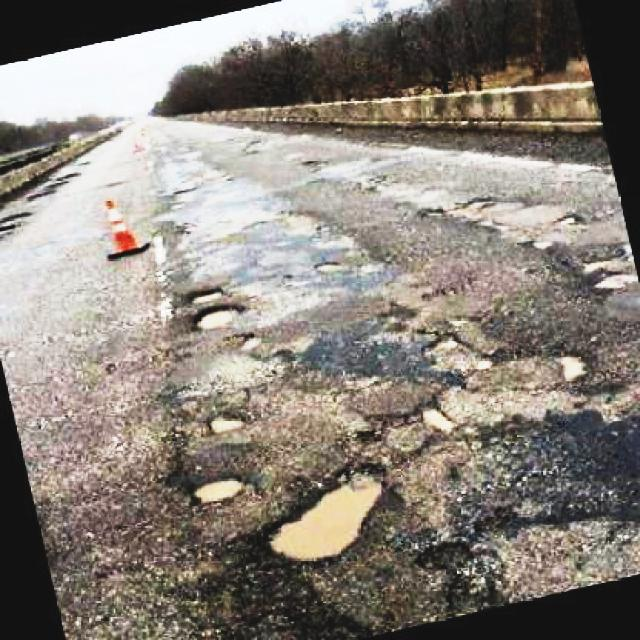pothole: (260, 456, 398, 570), (409, 526, 508, 623), (351, 386, 458, 445), (415, 323, 500, 375), (182, 285, 243, 337), (580, 246, 635, 292), (195, 469, 248, 505), (557, 344, 588, 384)
